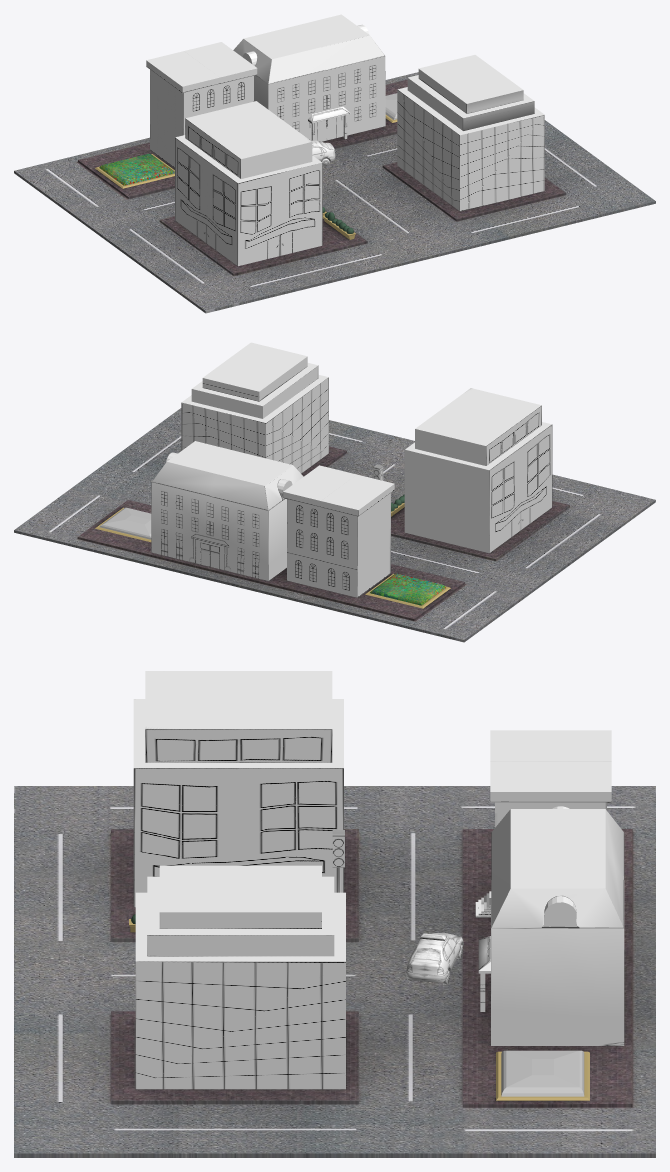
Rendered from gorod2.FBX.
The picture shows the model from 3 angles, top to bottom: view 1: azimuth 30°, elevation 25°; view 2: azimuth 150°, elevation 25°; view 3: azimuth 270°, elevation 25°; orthographic projection. The views are drawn at different scales.
Parts seen in each view (by area): view 1: Box002, domsleva, Dom_sprava, Box001, StraightStair001, Box009, Plane004; view 2: Box002, domsleva, Box001, Dom_sprava, StraightStair001, Box009, Box010; view 3: Box002, Dom_sprava, domsleva, Box001, StraightStair001, Box010, Plane004, Object002.
Boxes of the visible parts, x1,y1,x2,y2 form: Box002: (14, 72, 655, 313); domsleva: (175, 101, 322, 266); Dom_sprava: (397, 55, 544, 211); Box001: (233, 14, 385, 141); StraightStair001: (146, 42, 257, 167); Box009: (99, 153, 174, 185); Plane004: (309, 139, 335, 166); Box002: (14, 408, 655, 642); domsleva: (404, 388, 552, 553); Box001: (151, 441, 303, 580); Dom_sprava: (181, 342, 328, 473); StraightStair001: (283, 465, 394, 597); Box009: (370, 573, 446, 605); Box010: (99, 507, 151, 539); Box002: (14, 786, 655, 1157); Dom_sprava: (135, 865, 345, 1089); domsleva: (133, 671, 343, 907); Box001: (478, 806, 624, 1045); StraightStair001: (475, 730, 611, 917); Box010: (501, 1050, 584, 1096); Plane004: (406, 932, 463, 984); Object002: (496, 1051, 589, 1100).
Bounding box in the file's own units: 1814 × 413 × 1337.
